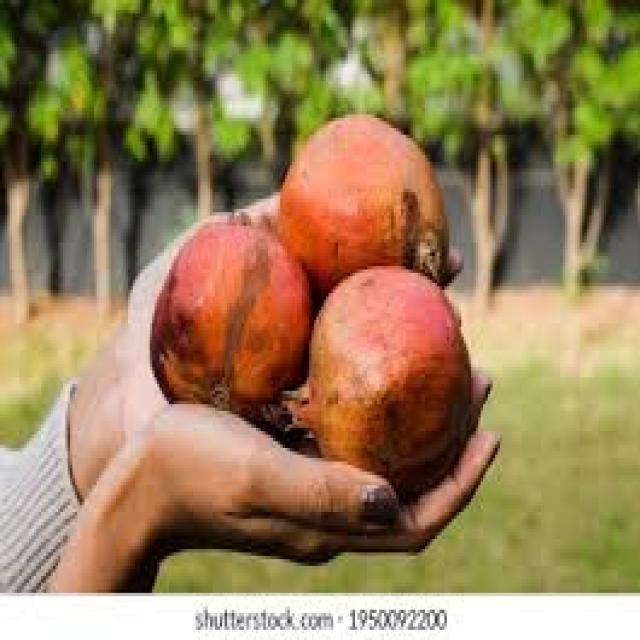overripe: (313, 253, 482, 492), (153, 204, 311, 417), (283, 108, 451, 270)
